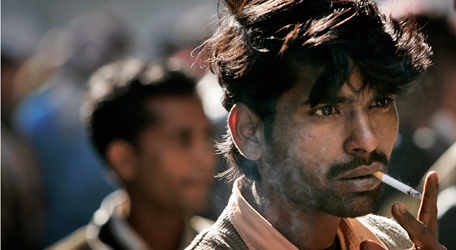cigarette: (365, 165, 423, 202)
